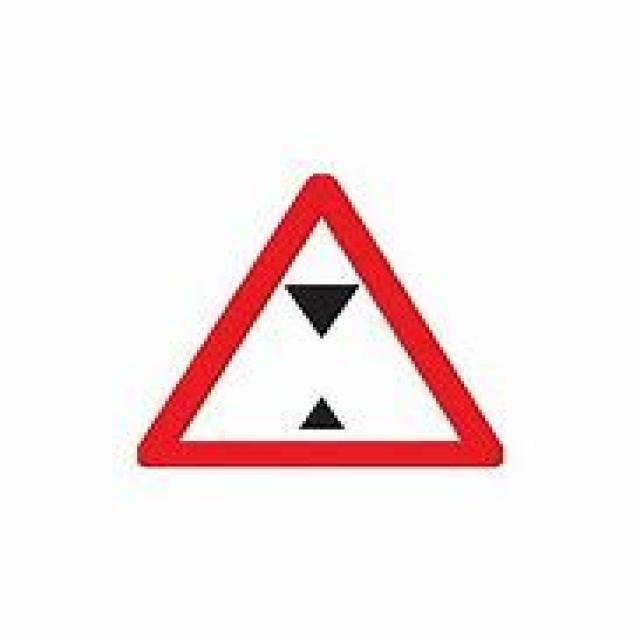HEIGHT_LIMIT: (130, 170, 503, 464)
